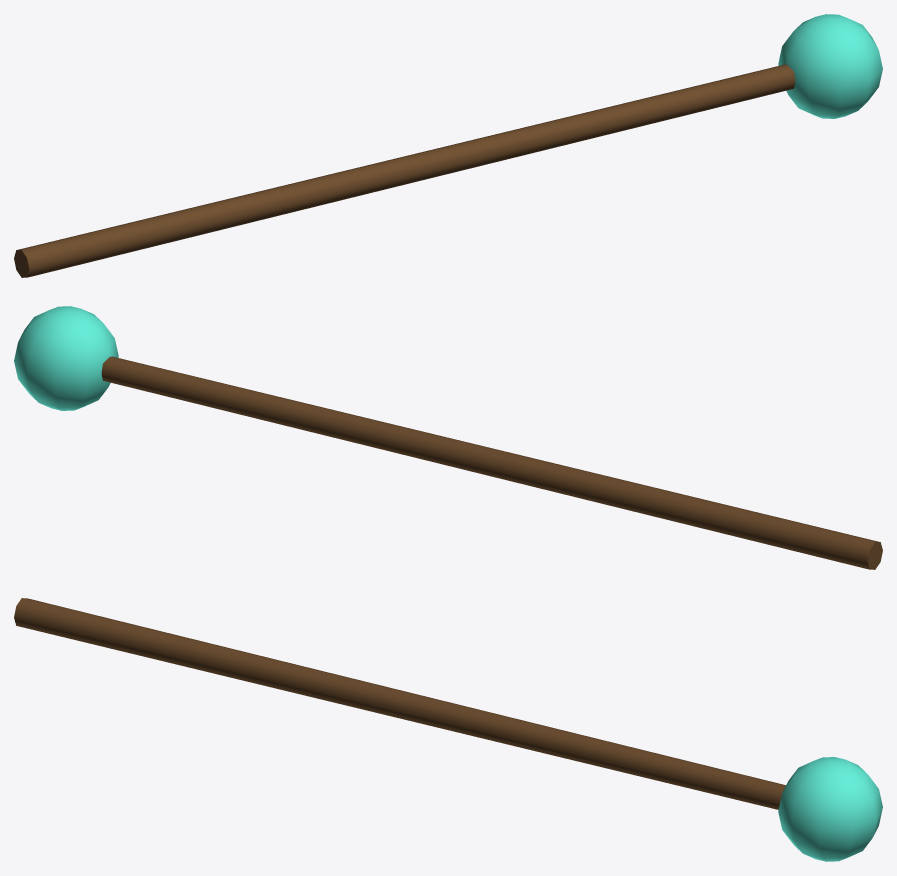
File: staff.glb
3 renders of one model, top to bottom at view 1: azimuth 30°, elevation 25°; view 2: azimuth 150°, elevation 25°; view 3: azimuth 330°, elevation 25°, orthographic.
Size of the model in its own units: 1.03 by 0.11 by 0.1046.
